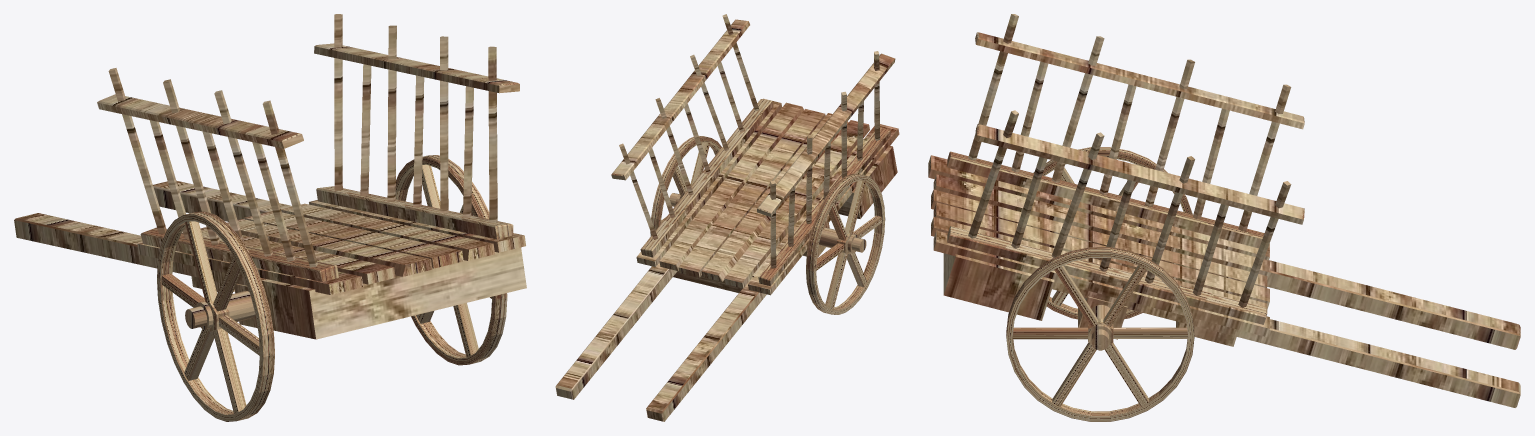
File: Charette (2).FBX
The picture shows the model from 3 angles, left to right: view 1: azimuth 30°, elevation 25°; view 2: azimuth 150°, elevation 25°; view 3: azimuth 270°, elevation 25°; orthographic projection. The views are drawn at different scales.
Visible parts, largest first — view 1: object3; view 2: object3; view 3: object3.
Part boxes in pixels (x1,y1,x2,y2): object3: (14,14,526,421); object3: (555,14,899,421); object3: (928,14,1520,421).
Bounding box in the file's own units: 21.98 × 25.98 × 44.85.
